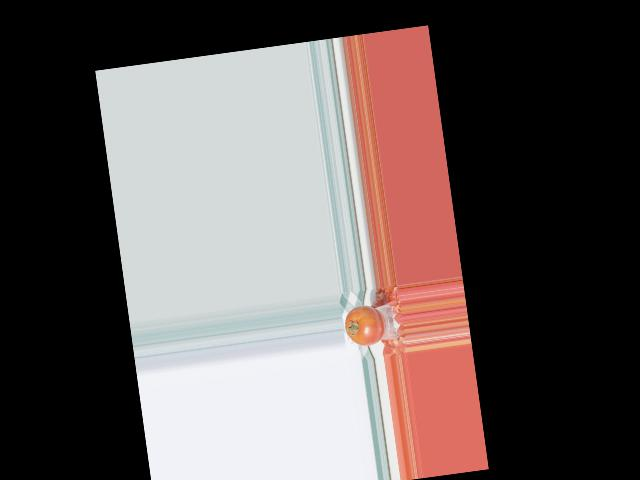tomato: (342, 303, 387, 349)
